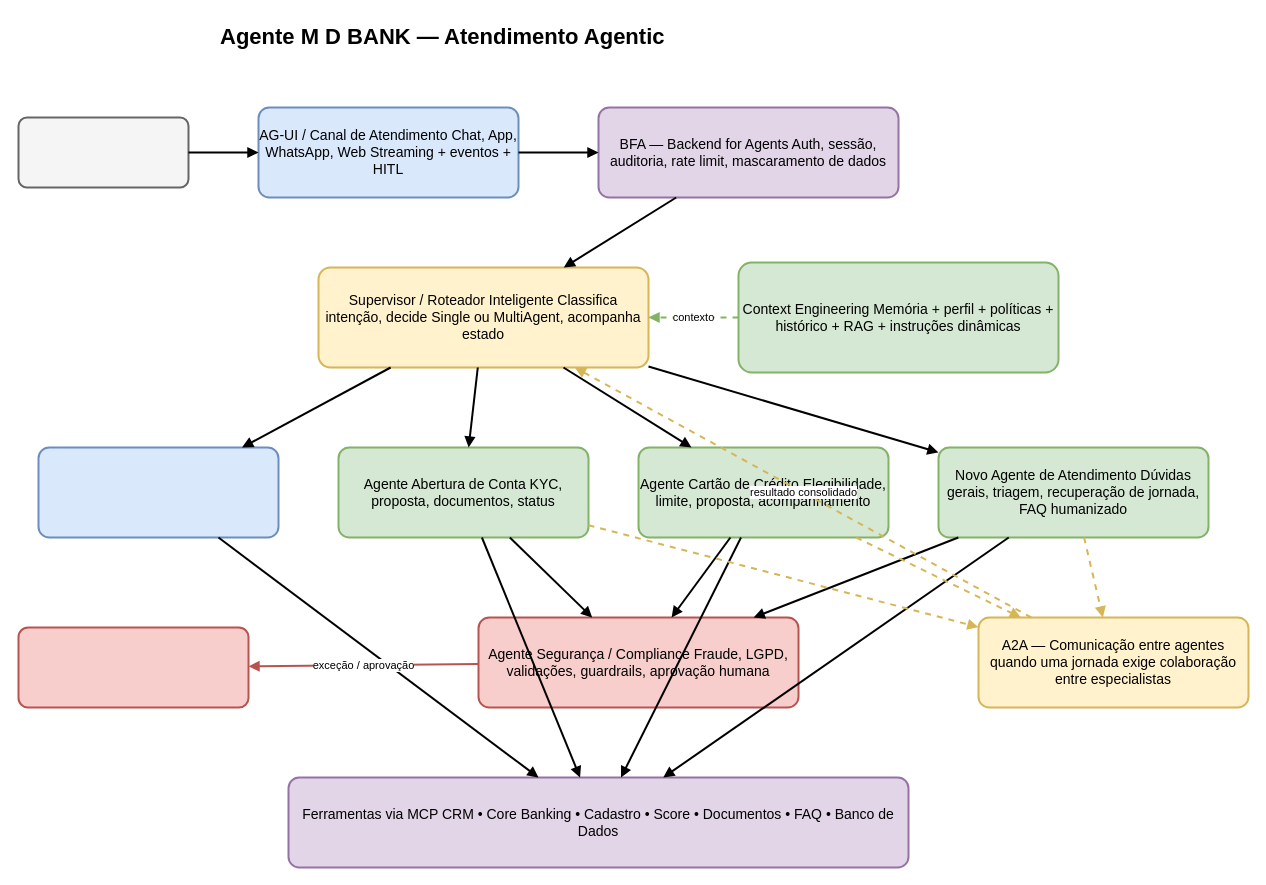
Some shapes in this 1266 by 885 pixel diagram are drawn without their labels. Each missing label, with the centre of its shape:
Cliente / Usuário “Quero atendimento”: (103,152)
Fluxo Single Agent Atendimento simples responde direto com ferramentas: (158,492)
Humano no Loop Atendente / Backoffice aprovação ou exceção: (133,667)
